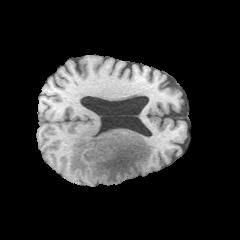glioma: (70, 128, 151, 183)
